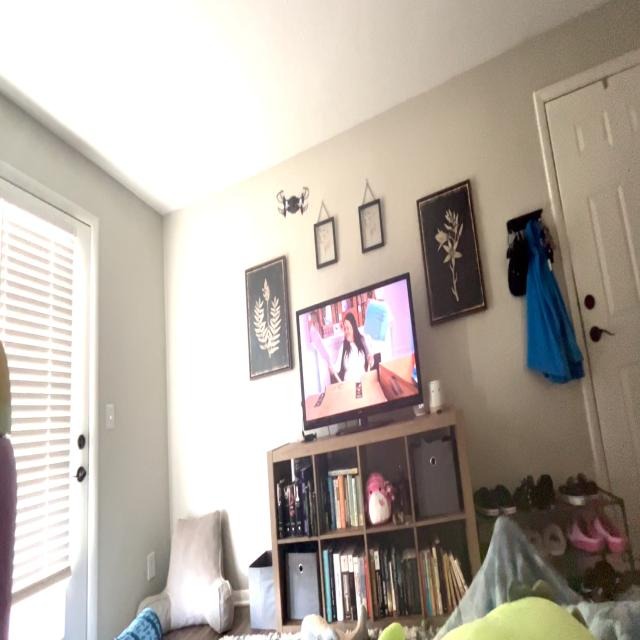drone: (264, 174, 319, 227)
